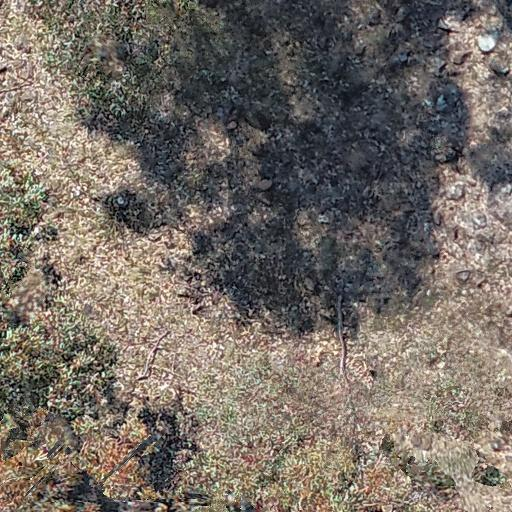stone: (486, 52, 512, 80), (469, 34, 501, 51), (444, 178, 468, 200), (437, 14, 461, 33), (465, 238, 487, 258), (390, 50, 412, 70), (18, 88, 40, 108), (427, 56, 449, 75), (451, 50, 472, 66), (230, 201, 250, 216), (189, 302, 209, 316), (472, 213, 488, 227), (214, 105, 228, 121), (490, 438, 506, 452), (498, 184, 512, 198), (432, 210, 444, 226), (303, 276, 315, 290), (455, 270, 472, 279), (226, 120, 238, 131), (476, 278, 488, 289)
